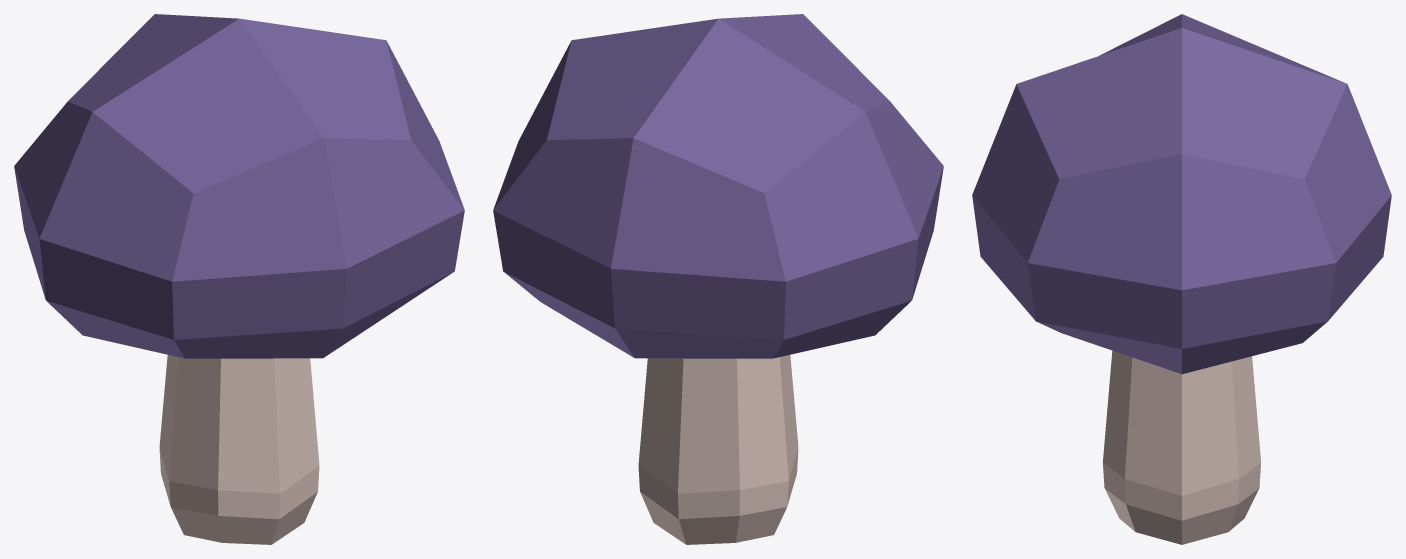
The model's file is MUSH_ROUNDEDMED_PURP.fbx.
3 renders of one model, left to right at view 1: azimuth 30°, elevation 25°; view 2: azimuth 150°, elevation 25°; view 3: azimuth 270°, elevation 25°, orthographic. The views are drawn at different scales.
Visible parts, largest first — view 1: pCube20, pCube19; view 2: pCube20, pCube19; view 3: pCube20, pCube19.
Boxes of the visible parts, x1,y1,x2,y2 form: pCube20: [14, 14, 464, 358]; pCube19: [159, 355, 319, 544]; pCube20: [493, 14, 943, 358]; pCube19: [638, 355, 798, 544]; pCube20: [972, 14, 1391, 374]; pCube19: [1102, 350, 1261, 544].
Size of the model in its own units: 14.03 by 17.15 by 13.06.
